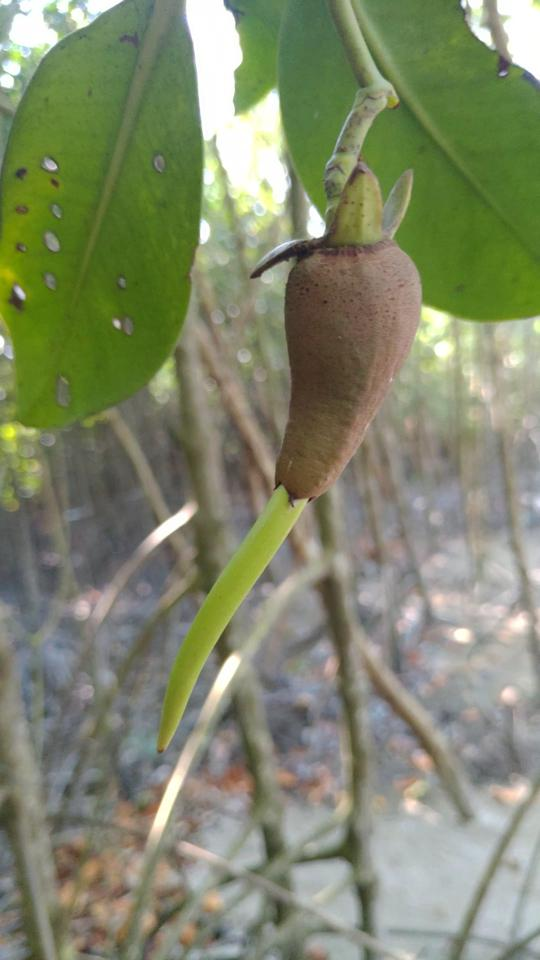mentah: (139, 197, 441, 773)
